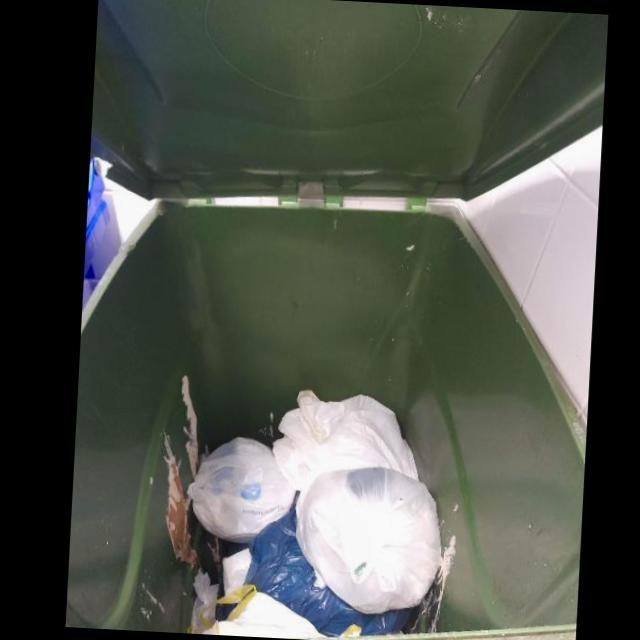tui_ni_long: (243, 508, 415, 637), (296, 468, 443, 615), (271, 390, 420, 520), (187, 437, 297, 542)
